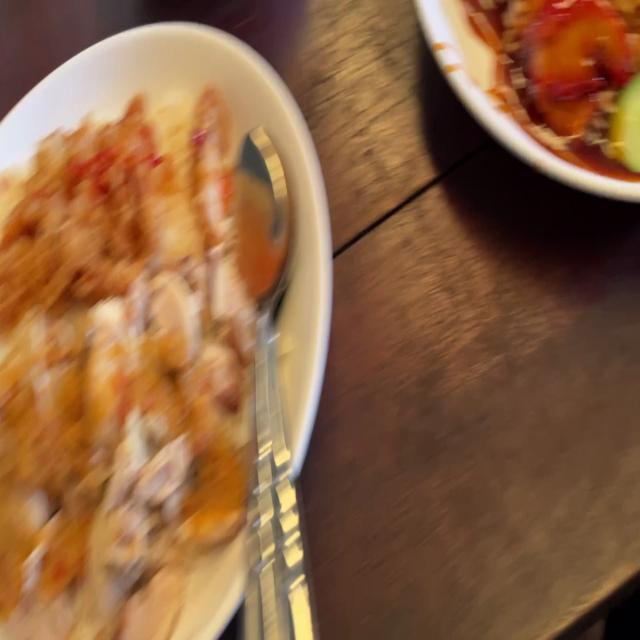boiled_chicken: (9, 285, 226, 582)
chicken_rice: (2, 100, 255, 612)
cucumber: (597, 79, 640, 174)
fried_chicken: (0, 108, 239, 272)
red_pork: (520, 4, 614, 108)
red_pork_and_crispy_pork: (483, 0, 640, 151)
